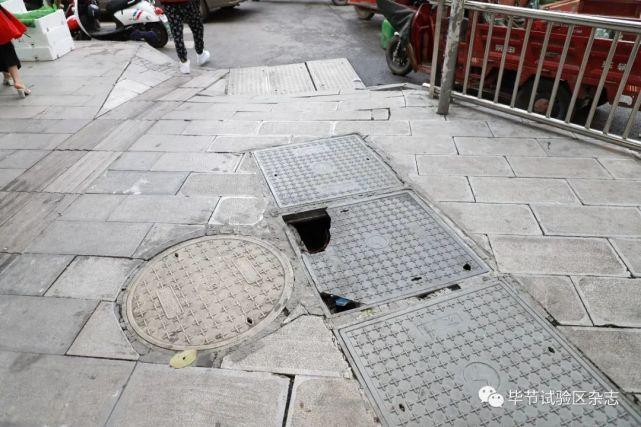broke: (277, 197, 501, 319)
